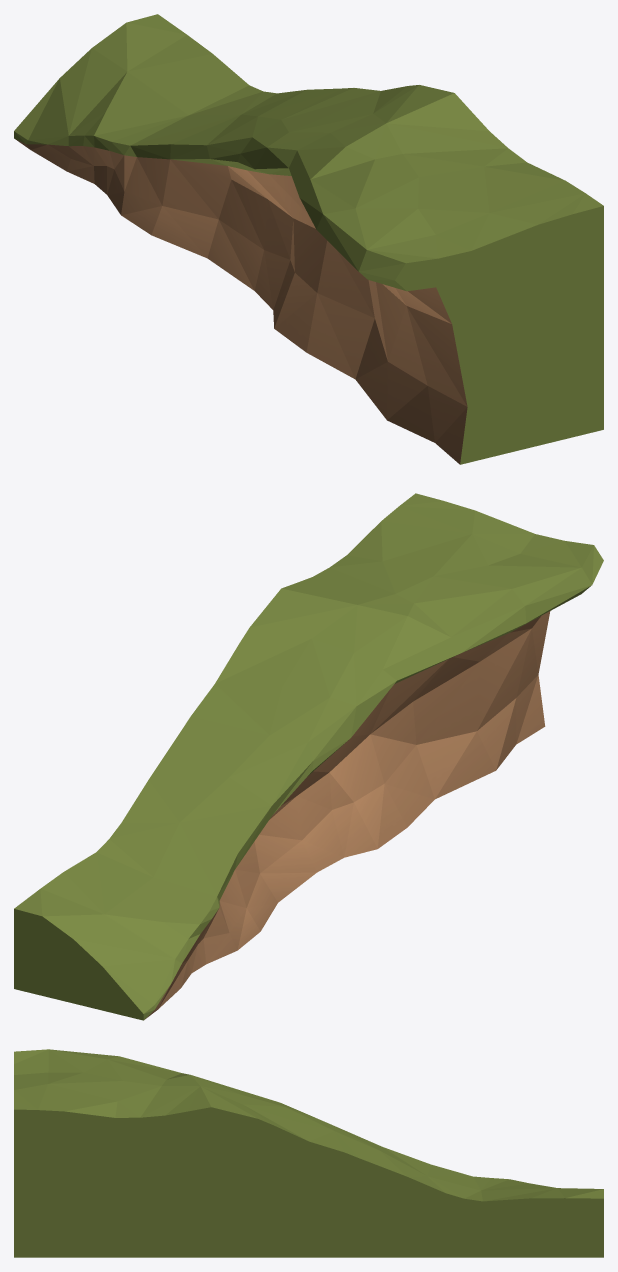
The model's file is Terrian_Cliff_Edge_End-01.fbx.
3 views of the same model, one above another, from view 1: azimuth 30°, elevation 25°; view 2: azimuth 150°, elevation 25°; view 3: azimuth 270°, elevation 25° (orthographic). The views are drawn at different scales.
Visible parts, largest first — view 1: Terrian_Cliff_Edge_End-01; view 2: Terrian_Cliff_Edge_End-01; view 3: Terrian_Cliff_Edge_End-01.
Boxes of the visible parts, left/top/right/bottom form: Terrian_Cliff_Edge_End-01: left=14, top=14, right=603, bottom=464; Terrian_Cliff_Edge_End-01: left=14, top=493, right=603, bottom=1020; Terrian_Cliff_Edge_End-01: left=14, top=1049, right=603, bottom=1257.
Bounding box in the file's own units: 1029 × 1013 × 3600.
Materials: 1 (1 with a texture image).
